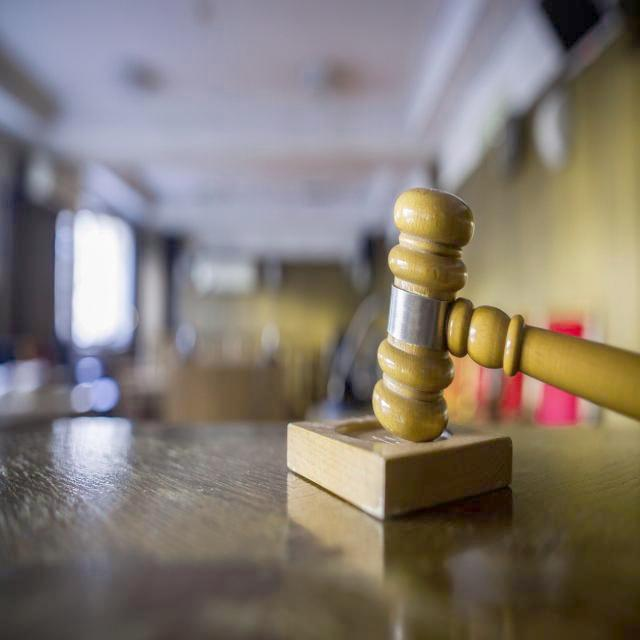hammer: (364, 167, 640, 458)
